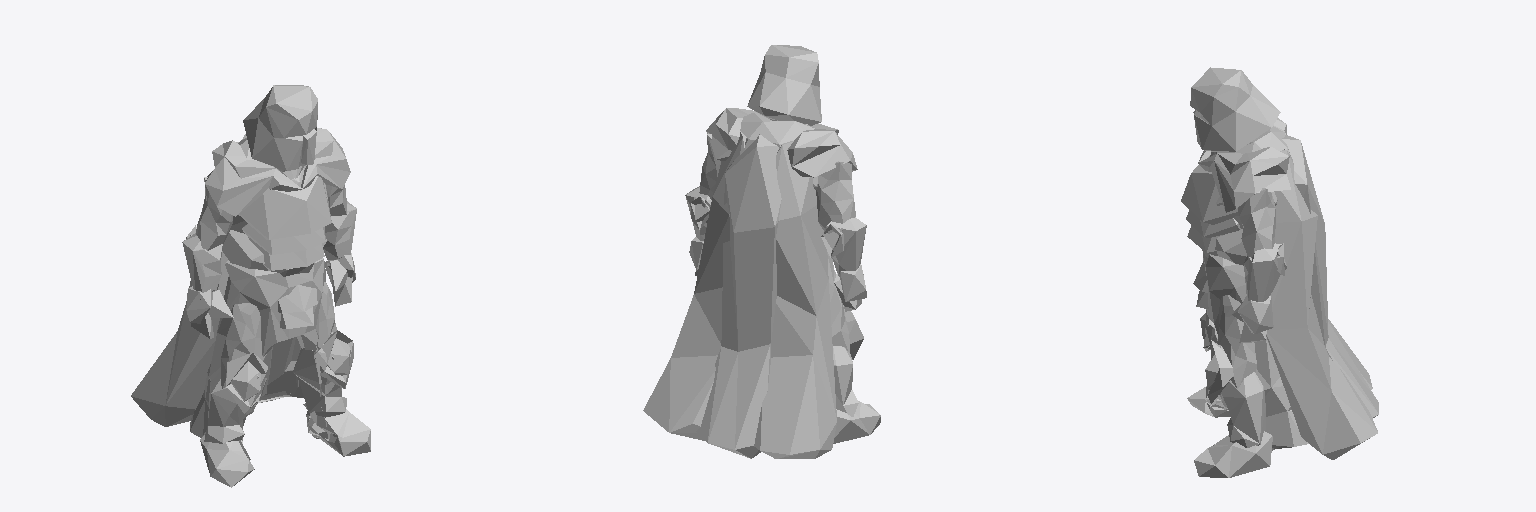
Rendered from Knight.obj.
3 renders of one model, left to right at view 1: azimuth 30°, elevation 25°; view 2: azimuth 150°, elevation 25°; view 3: azimuth 270°, elevation 25°, orthographic.
Parts seen in each view (by area): view 1: Knight; view 2: Knight; view 3: Knight.
Part boxes in pixels (x1,y1,x2,y2): Knight: (131, 85, 370, 487); Knight: (643, 45, 880, 458); Knight: (1181, 67, 1378, 477).
Bounding box in the file's own units: 0.8147 × 1.62 × 0.7886.